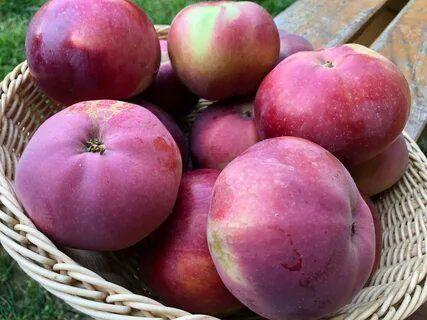Apple: (208, 137, 378, 320), (15, 101, 182, 256), (168, 1, 280, 101)
